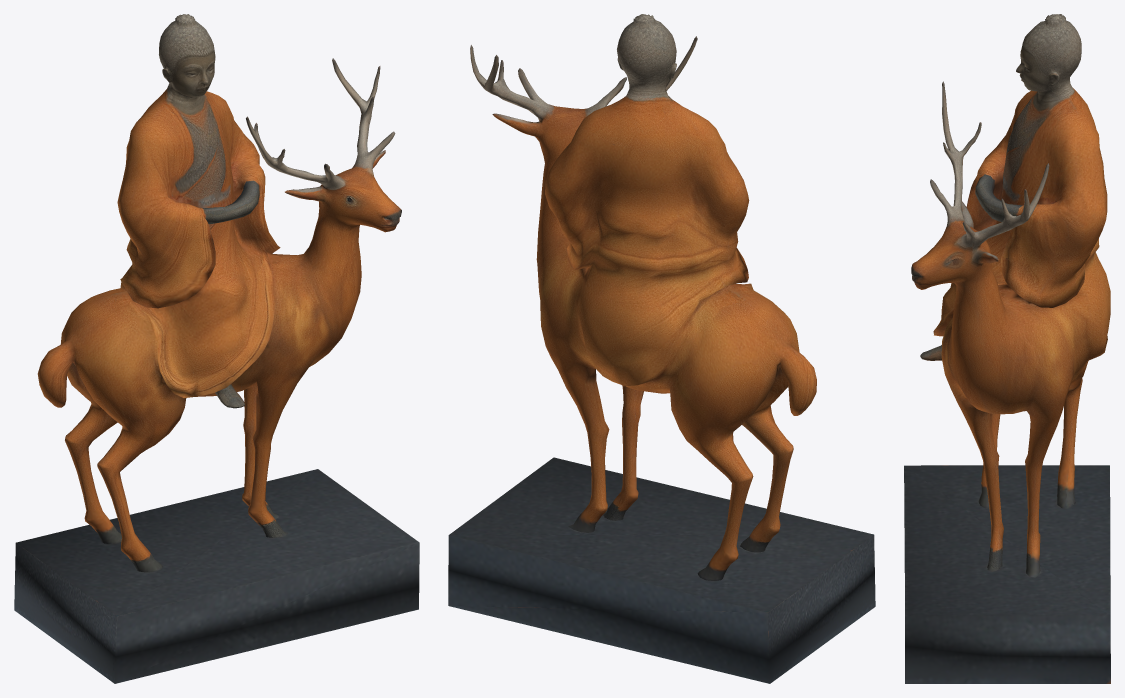
Rendered from toa-loc-la-han.glb.
3 views of the same model, side by side, from view 1: azimuth 30°, elevation 25°; view 2: azimuth 150°, elevation 25°; view 3: azimuth 270°, elevation 25° (orthographic). The views are drawn at different scales.
Size of the model in its own units: 0.5972 by 0.9913 by 0.3148.
Materials: 1 (1 with a texture image).
